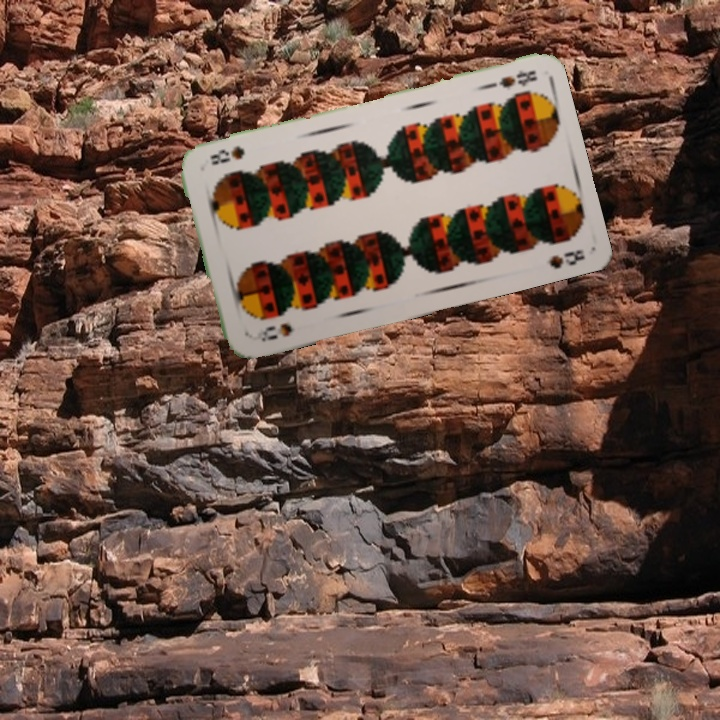S8: (481, 65, 540, 92), (247, 319, 295, 345)
